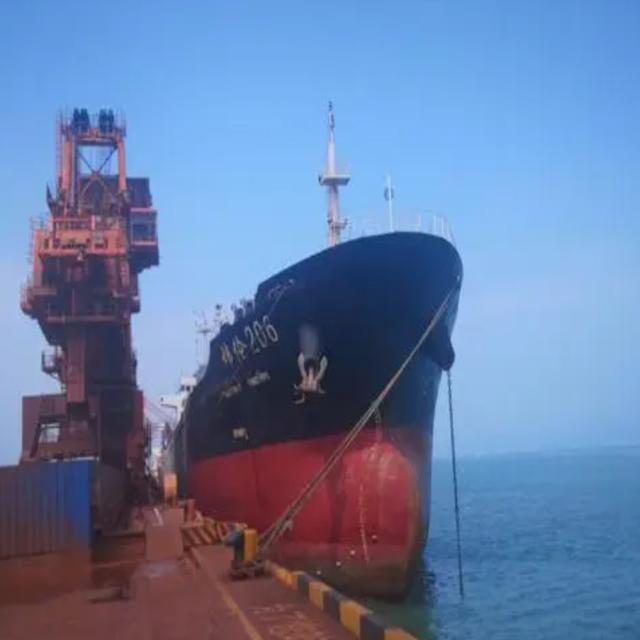cargoship: (170, 207, 462, 598)
